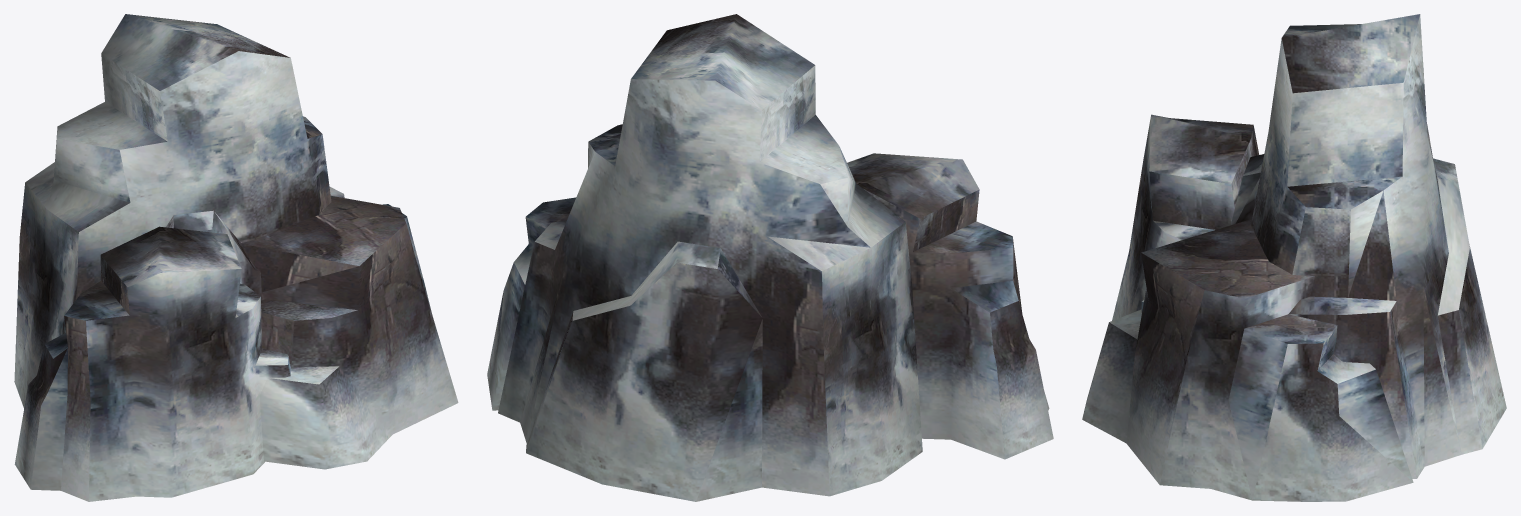
The model's file is S_Rock_White011.FBX.
3 renders of one model, left to right at view 1: azimuth 30°, elevation 25°; view 2: azimuth 150°, elevation 25°; view 3: azimuth 270°, elevation 25°, orthographic. The views are drawn at different scales.
Visible parts, largest first — view 1: S_Rock_White011; view 2: S_Rock_White011; view 3: S_Rock_White011.
Part boxes in pixels (<box>): S_Rock_White011: <box>14,14,458,501</box>; S_Rock_White011: <box>487,14,1053,501</box>; S_Rock_White011: <box>1082,14,1506,501</box>.
Bounding box in the file's own units: 894 × 713 × 680.
